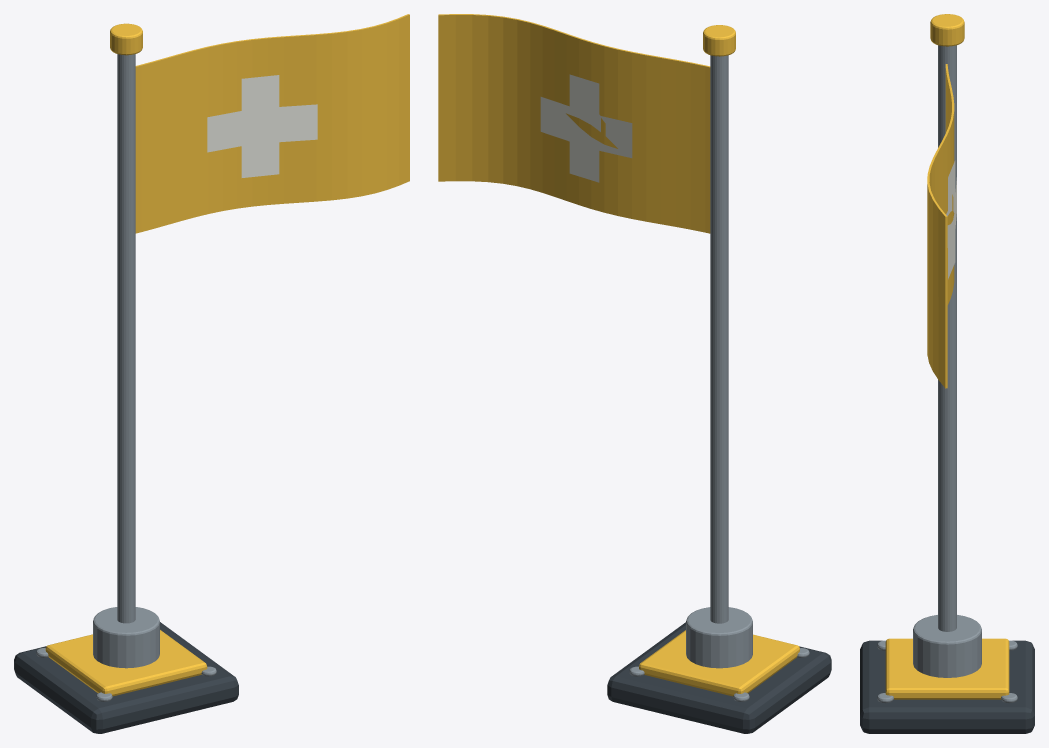
File: flag.fbx
3 renders of one model, left to right at view 1: azimuth 30°, elevation 25°; view 2: azimuth 150°, elevation 25°; view 3: azimuth 270°, elevation 25°, orthographic. The views are drawn at different scales.
Visible parts, largest first — view 1: Collector_Base_Flag; view 2: Collector_Base_Flag; view 3: Collector_Base_Flag.
Part boxes in pixels (x1=…): Collector_Base_Flag: x1=14, y1=14, x2=409, y2=733; Collector_Base_Flag: x1=438, y1=14, x2=831, y2=733; Collector_Base_Flag: x1=860, y1=14, x2=1034, y2=733.
Bounding box in the file's own units: 116 × 206 × 48.
